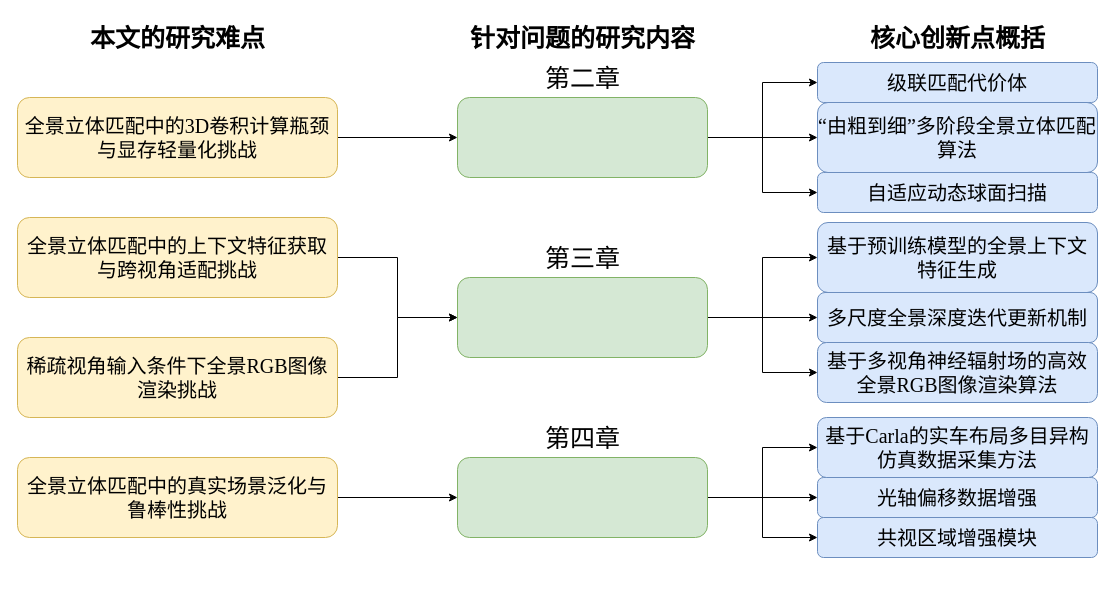
This 1115x594 diagram has some shape labels left out. The centre of each missing label's shape, as x and y in pixels:
基于多目异构实车传感器布局的全景深度估计研究: (582,497)
基于级联匹配代价体的自适应动态球面扫描算法: (582,137)
基于预训练模型的多尺度迭代式全景深度估计与RGB图像渲染算法: (582,317)
